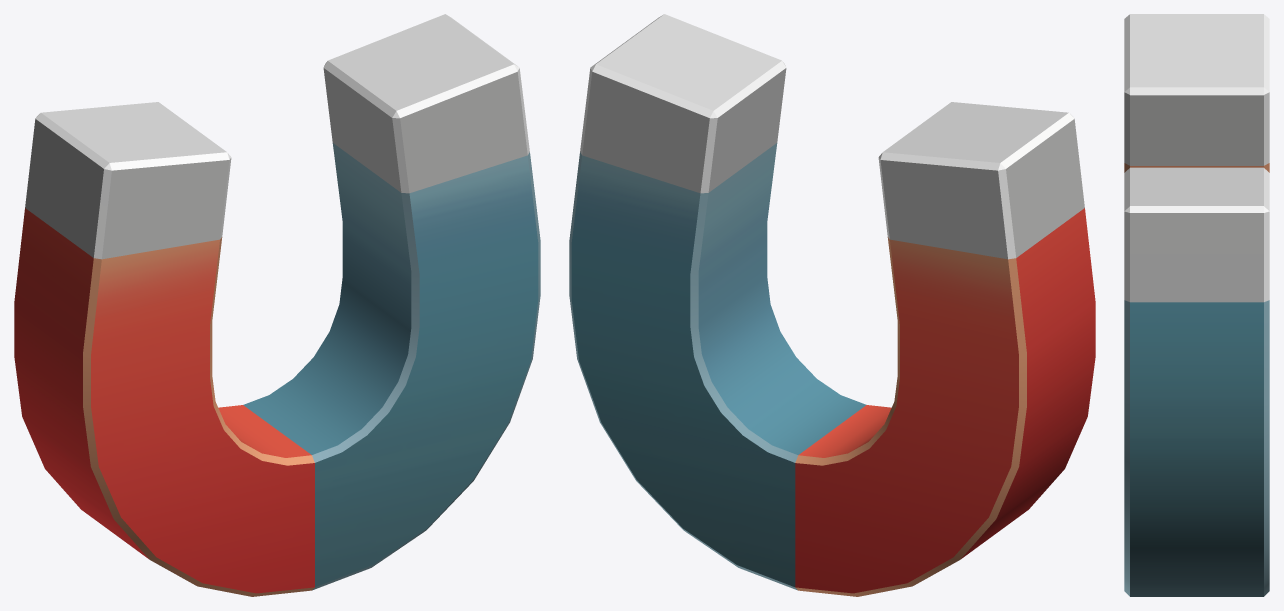
File: Magnet.fbx
The picture shows the model from 3 angles, left to right: view 1: azimuth 30°, elevation 25°; view 2: azimuth 150°, elevation 25°; view 3: azimuth 270°, elevation 25°; orthographic projection. The views are drawn at different scales.
Parts seen in each view (by area): view 1: Magnet; view 2: Magnet; view 3: Magnet.
Part boxes in pixels (x1,y1,x2,y2): Magnet: (14, 14, 540, 596); Magnet: (569, 14, 1095, 596); Magnet: (1124, 14, 1269, 596).
Bounding box in the file's own units: 62.14 × 61.89 × 17.55.
